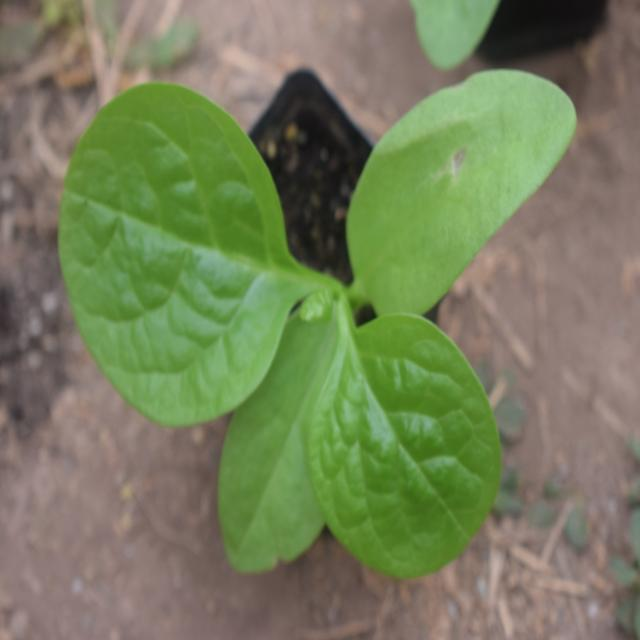Ceylon spinach: (49, 49, 544, 559)
